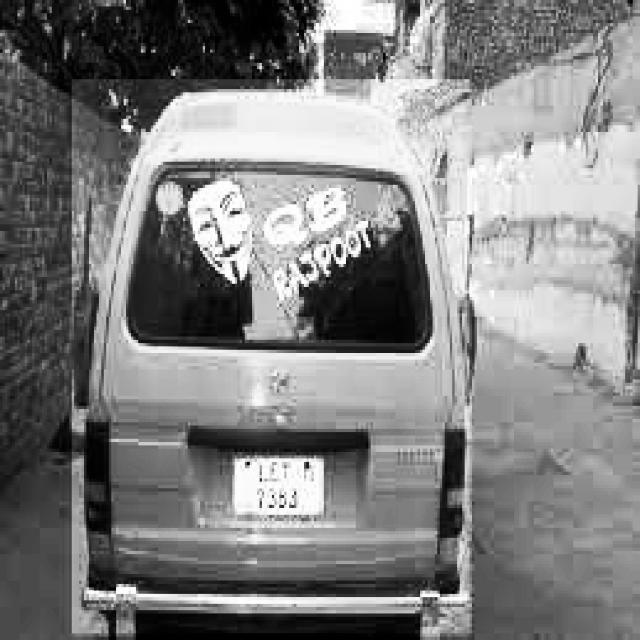LCV: (72, 79, 474, 637)
